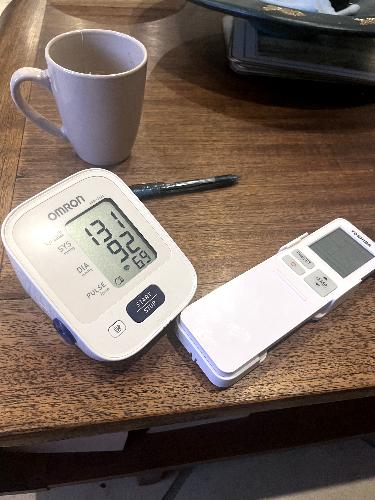bpm: (61, 187, 163, 293)
